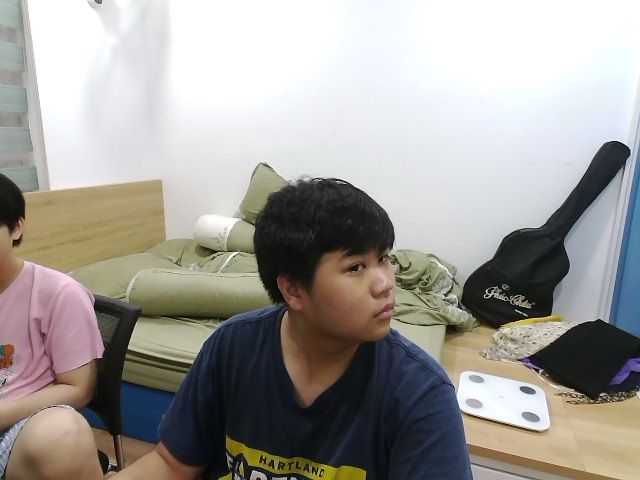face: (252, 176, 399, 344)
